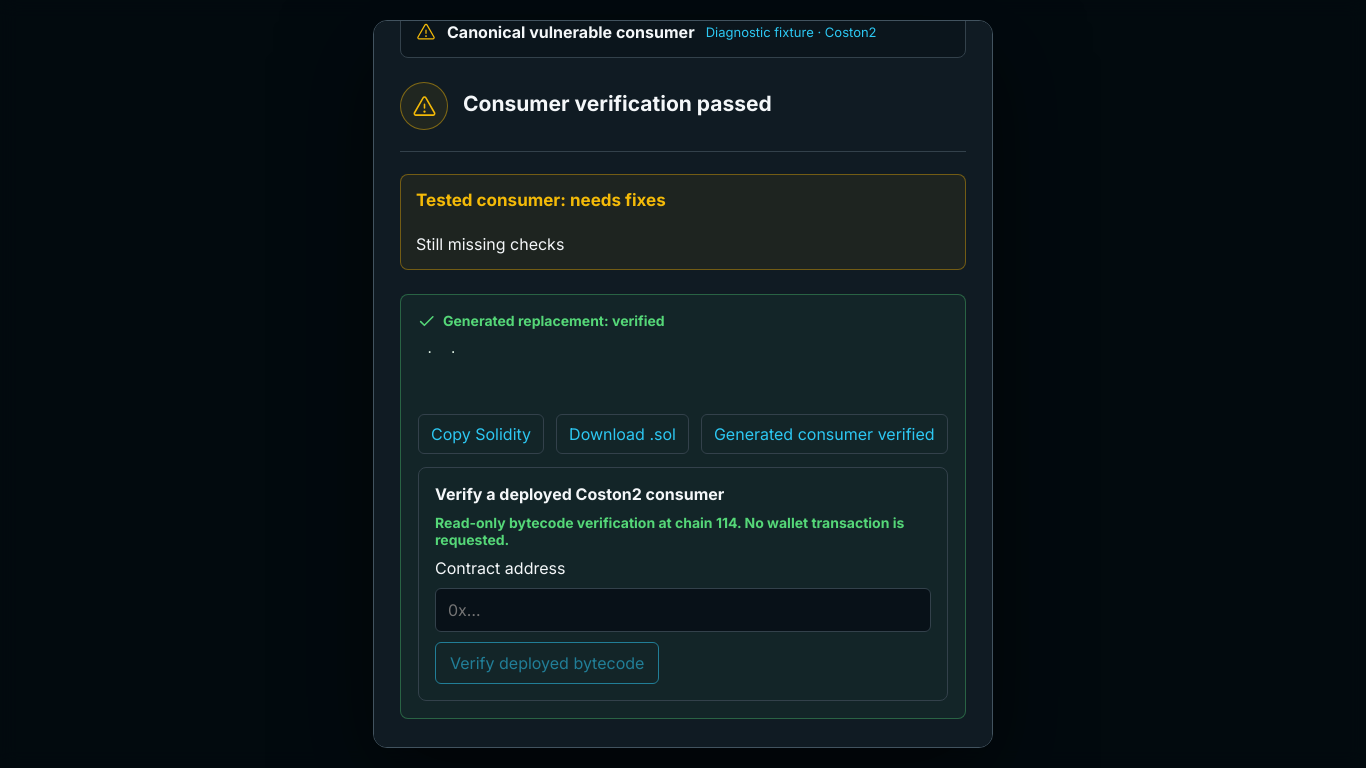
Test case: Slice 019 Consumer Lab surface › renders the honest verified deployed-bytecode result without a wallet effect
(page scrolled)
Expected: the text "Read-only bytecode verification at chain 114" is shown, [435,514,904,548]
Expected: the button "Verify deployed bytecode" is disabled, [435,642,659,684]
Type "0x1111111111111111111111111111111111111111" into the field labelled "Contract address". click: (683, 610)
box: [435,588,931,632]
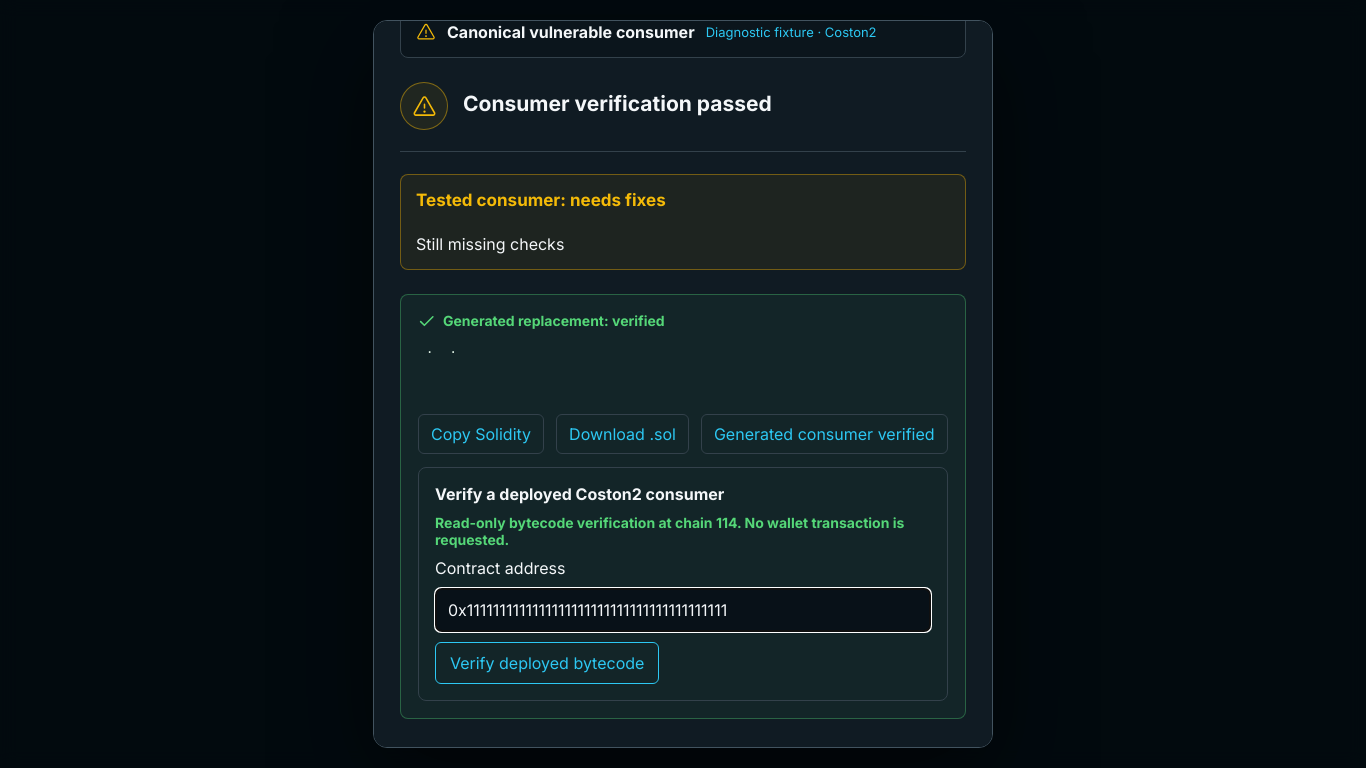
Click the button "Verify deployed bytecode". click: (547, 662)
box: [435,642,659,684]
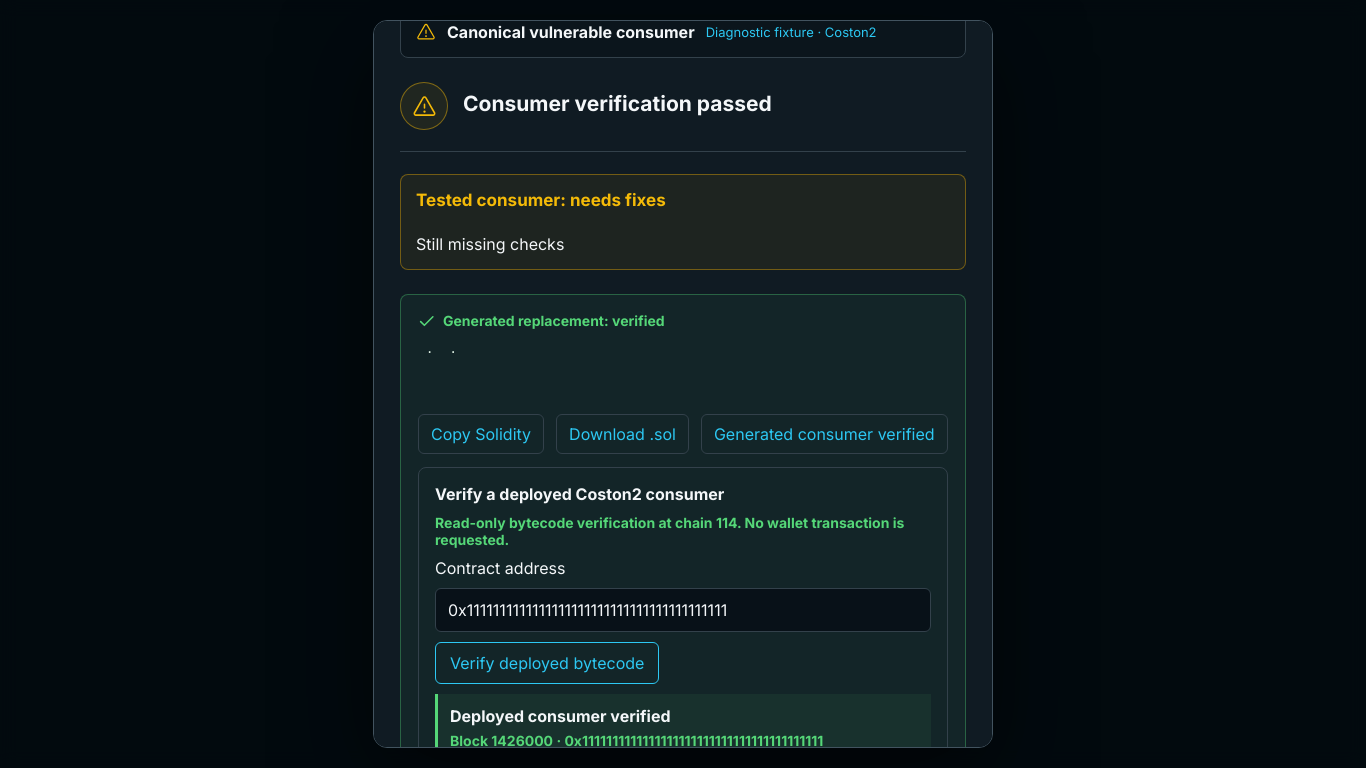
Result: the text "Deployed consumer verified" is shown at [450,706,671,726]
